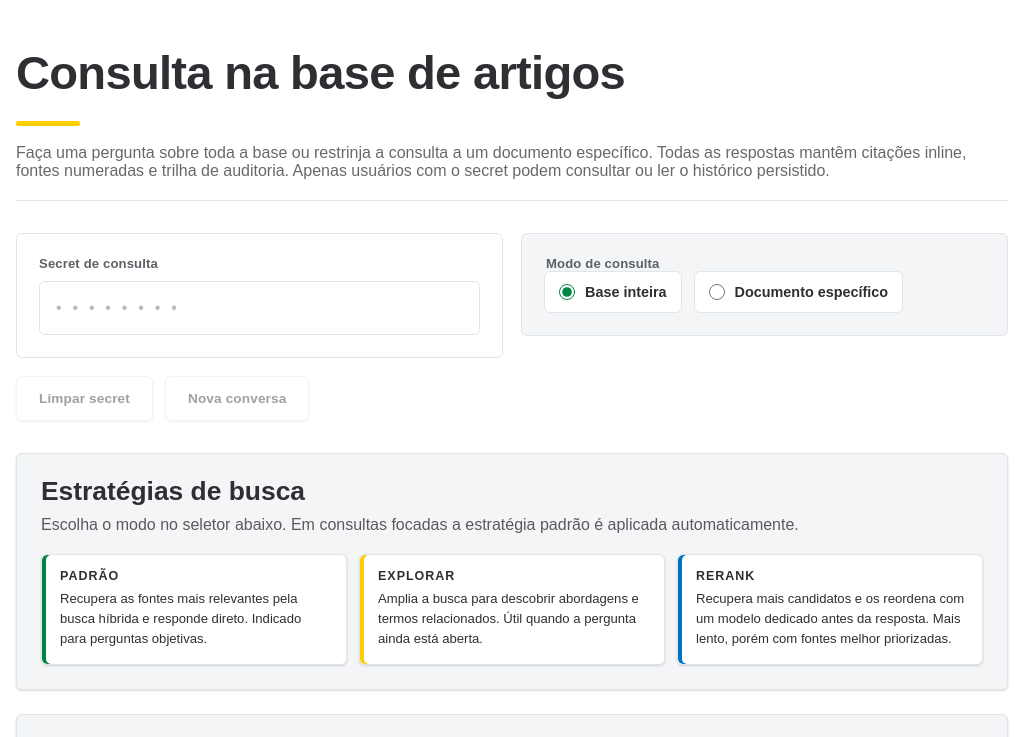
Test: /query page › shows the safe focused document-not-found message and keeps the active conversation state intact
Step 1. Type "query-secret-value" into the password field labelled "Secret de consulta" → (260, 308), box [39, 281, 480, 335]
(page scrolled)
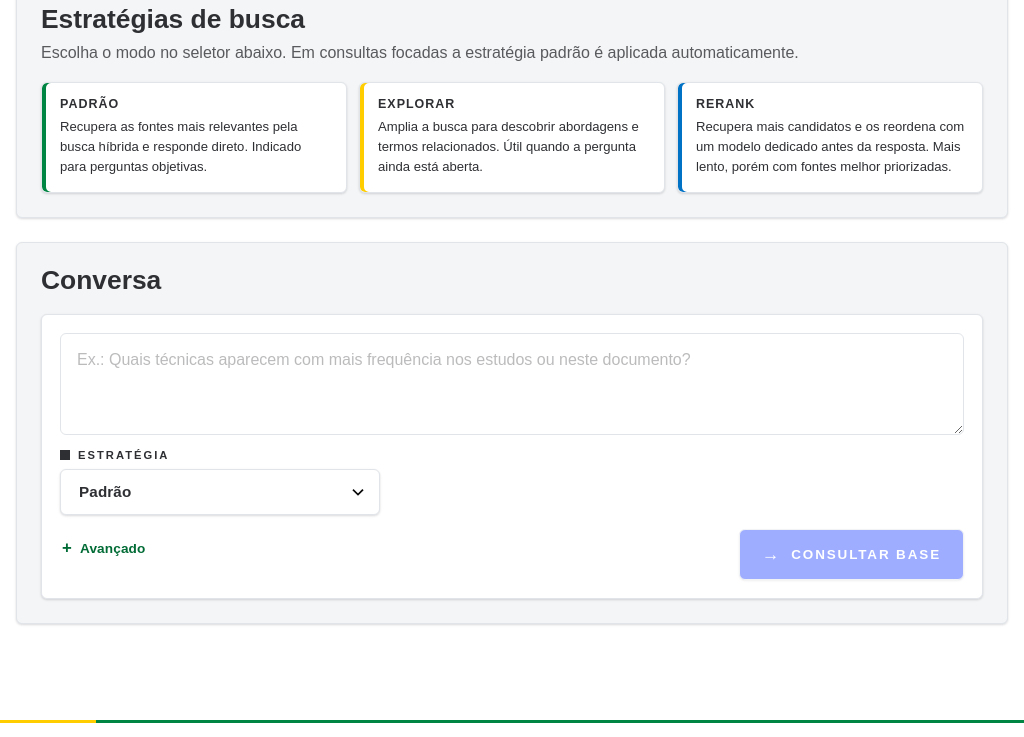
Step 2. Replace the text in the text box named "pergunta" with "Pergunta focada sem documento valido" → (512, 384), box [60, 333, 964, 435]
(page scrolled)
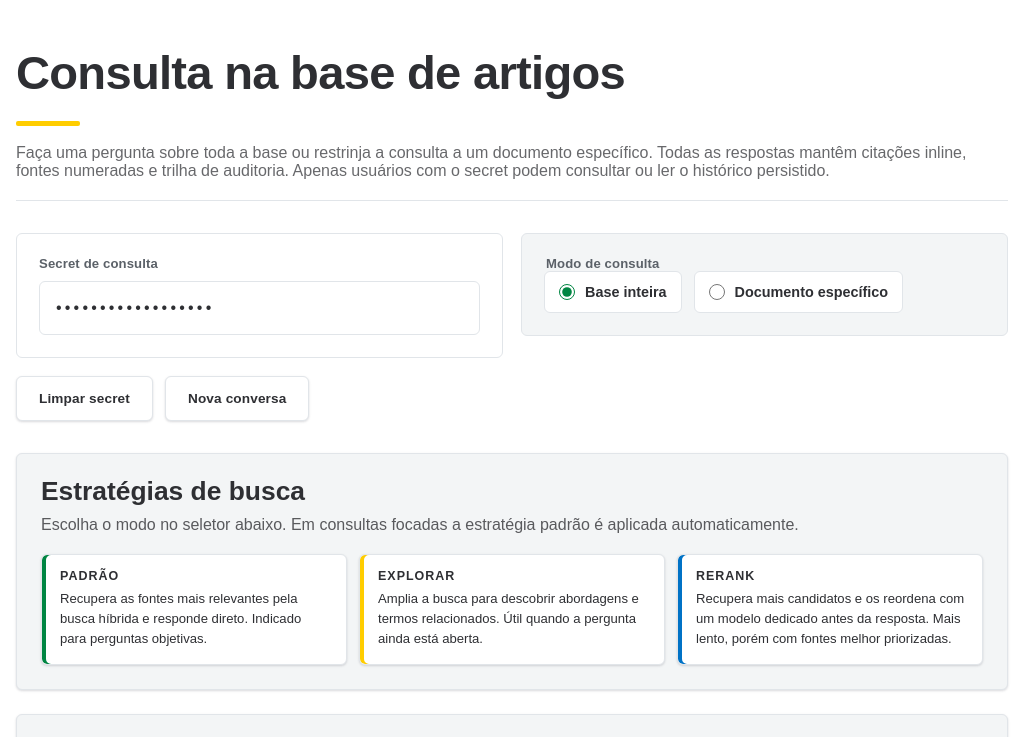
Step 3. Click the radio button labelled "Documento específico" → (717, 292), box [709, 284, 725, 300]
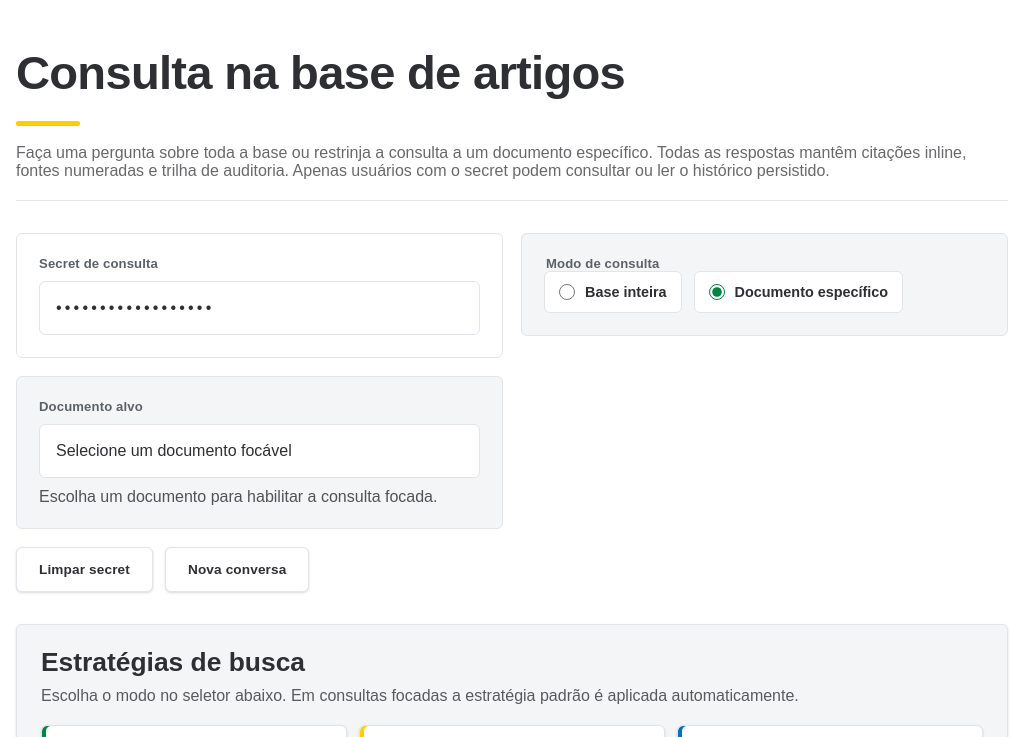
Step 4. Select "artigo focado a.pdf" in the dropdown labelled "Documento alvo" → (260, 451), box [39, 424, 480, 478]
(page scrolled)
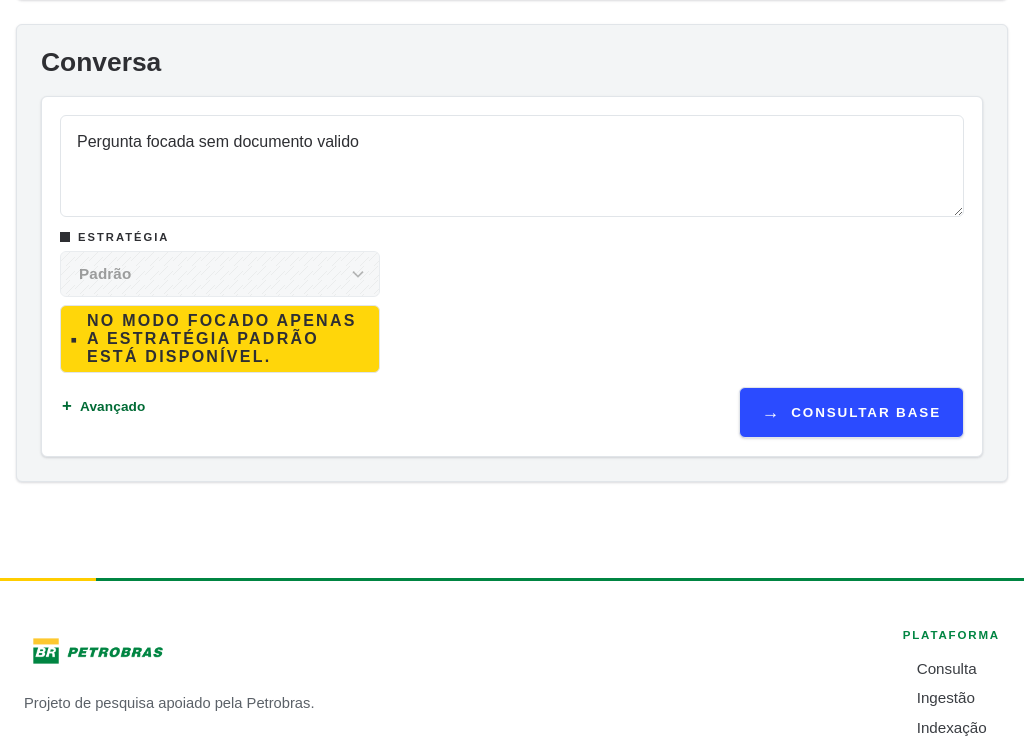
Step 5. Click the button "Consultar base" → (851, 413), box [739, 387, 964, 438]
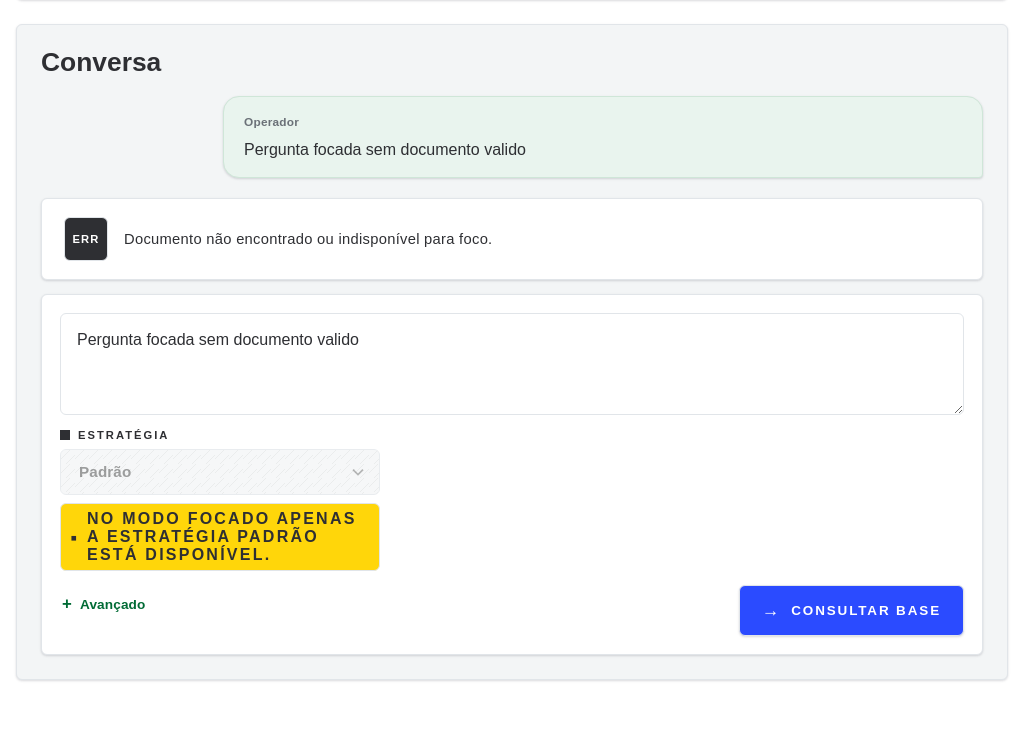
Check: the text "Documento não encontrado ou indisponível para foco." is shown, box [124, 231, 492, 247]
Check: the text "Pergunta focada sem documento valido" is shown, box [244, 141, 526, 158]
